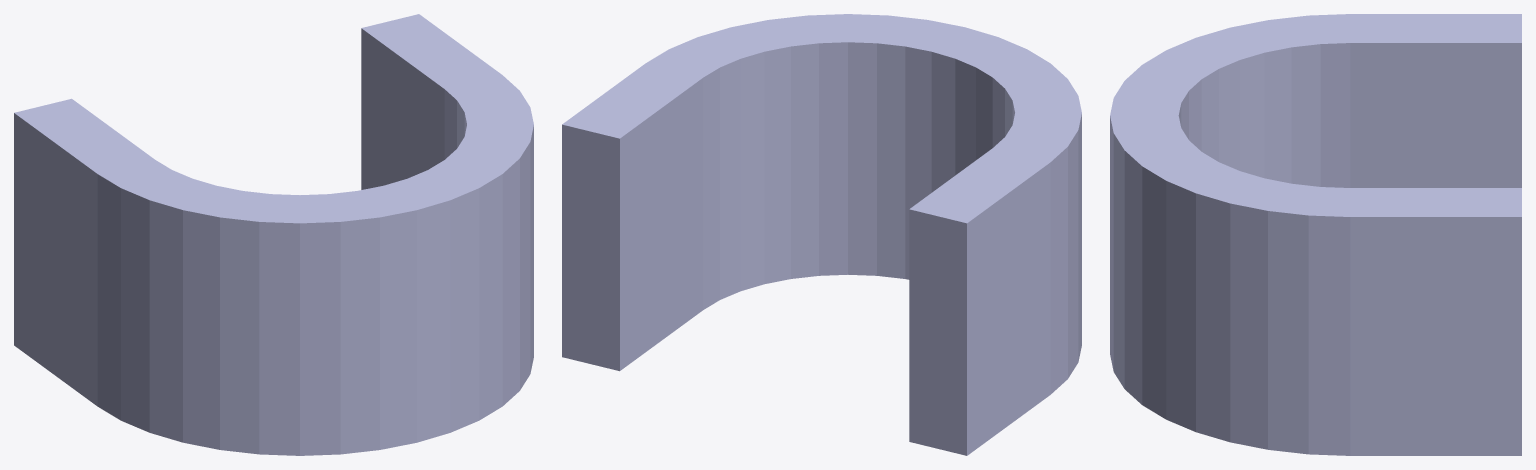
The model's file is lock-shackle.obj.
The picture shows the model from 3 angles, left to right: view 1: azimuth 30°, elevation 25°; view 2: azimuth 150°, elevation 25°; view 3: azimuth 270°, elevation 25°; orthographic projection. The views are drawn at different scales.
Bounding box in the file's own units: 0.875 × 0.48 × 0.75.
